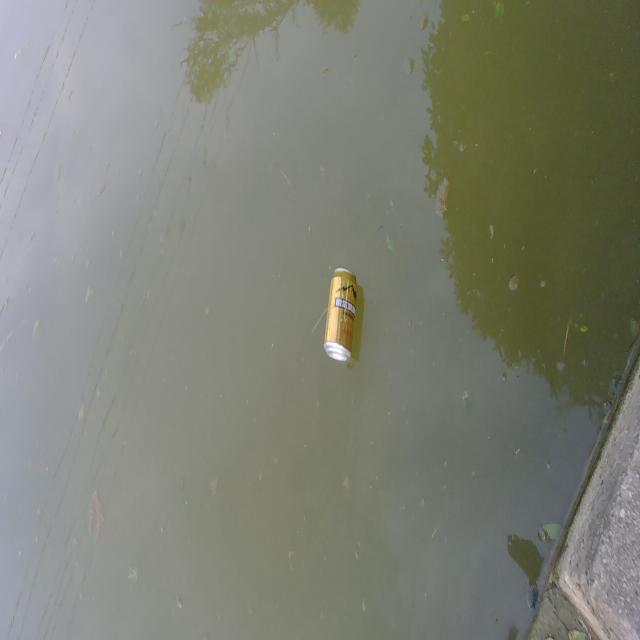garbage: (323, 266, 365, 366)
